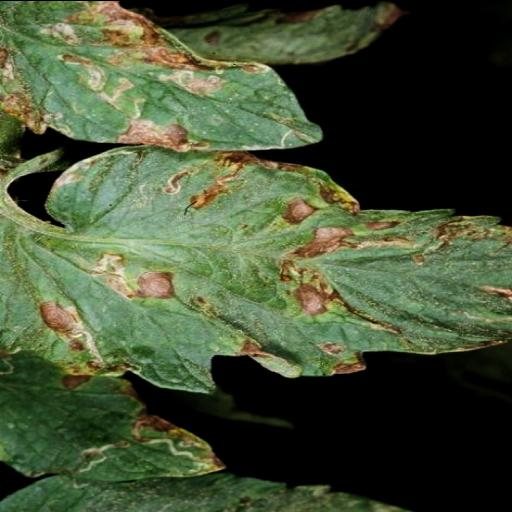disease_tomato: (0, 138, 511, 394), (0, 0, 328, 151)
